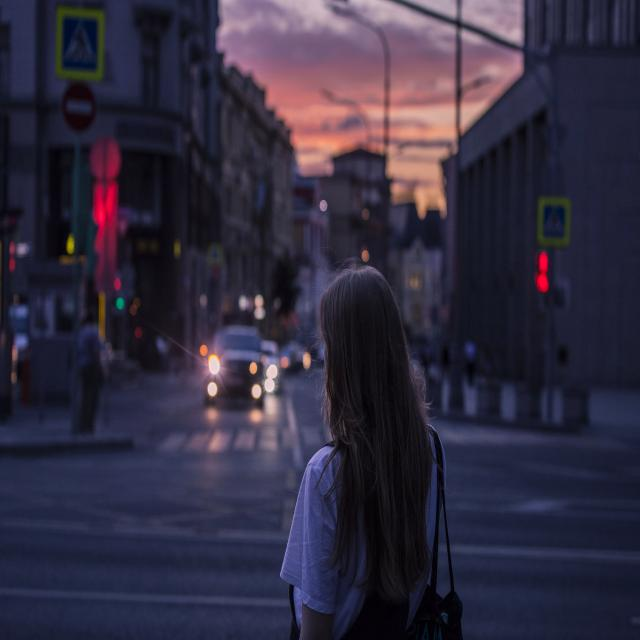adult: (293, 264, 443, 640)
